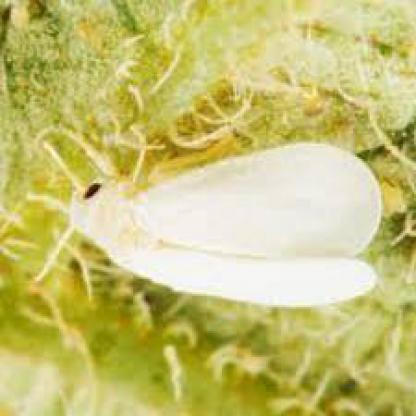whitefly: (68, 141, 384, 308)
